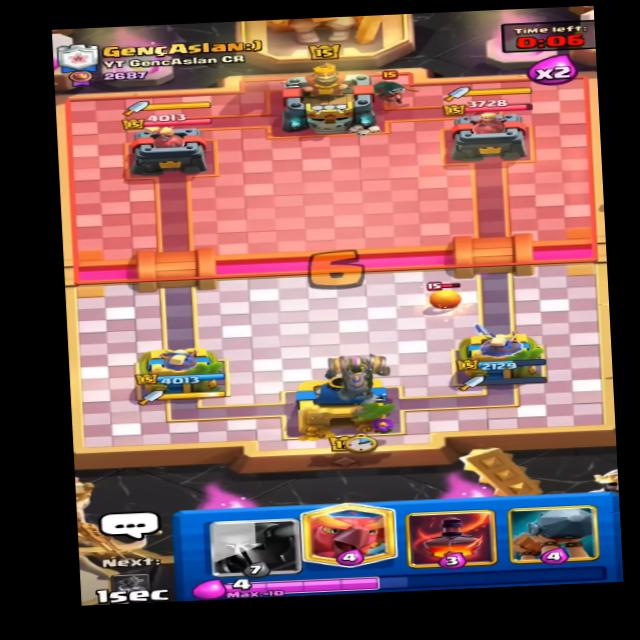bandit: (369, 68, 421, 102)
phoenix-egg: (423, 275, 469, 313)
